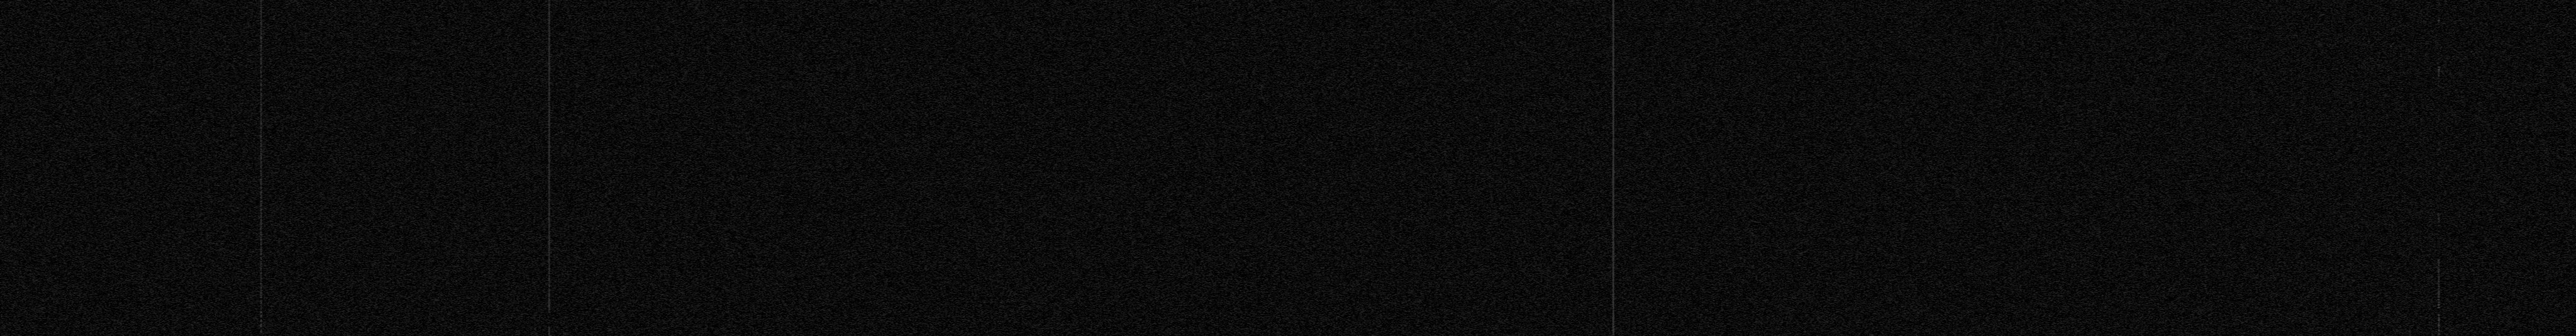wv_am: (547, 0, 550, 313), (260, 0, 263, 310), (260, 323, 263, 336), (547, 326, 550, 336), (260, 320, 263, 323), (260, 315, 263, 318), (260, 311, 263, 315)
wv_cw: (1612, 0, 1615, 336)
wv_lsb: (2436, 257, 2441, 308), (2436, 66, 2441, 92), (2436, 315, 2441, 336), (2436, 18, 2441, 36), (2438, 211, 2440, 236), (2438, 130, 2440, 147), (2438, 2, 2440, 13), (2438, 92, 2440, 99), (2438, 152, 2440, 156), (2438, 125, 2440, 130), (2438, 120, 2440, 125), (2438, 115, 2440, 120), (2438, 173, 2440, 176), (2438, 163, 2440, 166), (2438, 158, 2440, 161), (2438, 254, 2440, 257), (2438, 109, 2440, 112), (2438, 105, 2440, 109), (2438, 247, 2440, 250), (2438, 242, 2440, 245), (2438, 237, 2440, 240), (2438, 170, 2440, 171), (2438, 148, 2440, 150), (2438, 112, 2440, 114), (2438, 100, 2440, 102), (2438, 38, 2440, 40), (2438, 189, 2440, 191), (2438, 184, 2440, 186), (2438, 180, 2440, 181)
